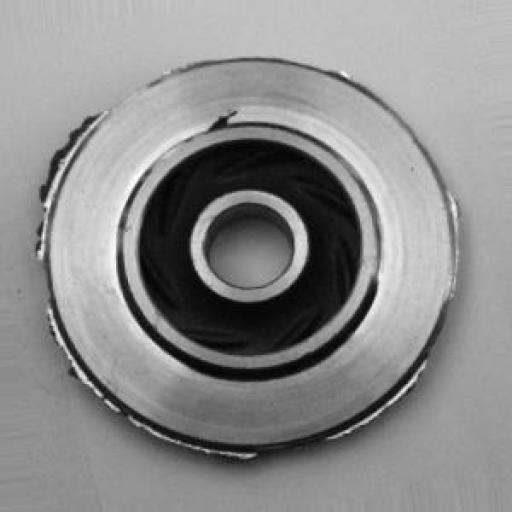defect: (29, 32, 488, 474)
